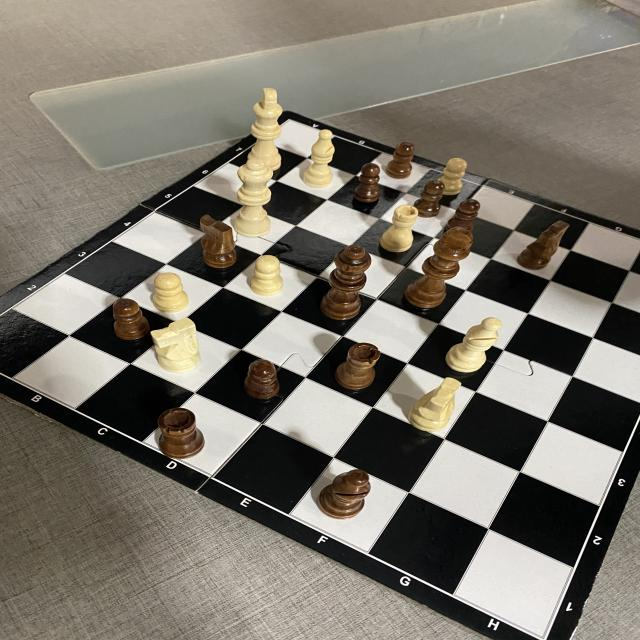Black-Bishop: (321, 469, 373, 520)
Black-King: (406, 228, 480, 310)
Black-Knight: (518, 220, 569, 269), (200, 216, 237, 266)
Black-Pawn: (112, 296, 150, 342), (244, 360, 279, 400), (447, 199, 482, 232), (414, 180, 444, 216), (387, 141, 415, 178), (354, 163, 379, 204)
Black-Queen: (322, 243, 372, 320)
Black-Rook: (158, 407, 206, 457), (338, 341, 380, 389)
White-Bishop: (446, 317, 504, 373), (302, 128, 336, 187)
White-King: (246, 87, 281, 171)
White-Knight: (409, 376, 463, 430), (152, 318, 200, 373)
White-Pawn: (152, 272, 187, 311), (250, 254, 282, 294), (434, 158, 467, 194)
White-Queen: (234, 158, 274, 236)
White-Rook: (380, 204, 419, 253)
